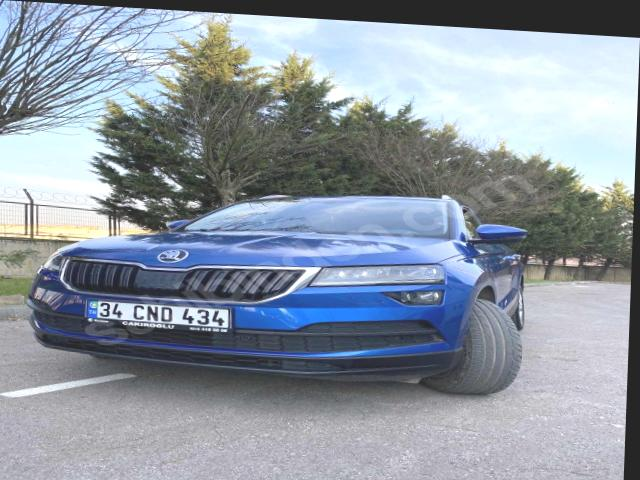plaka: (87, 301, 229, 328)
